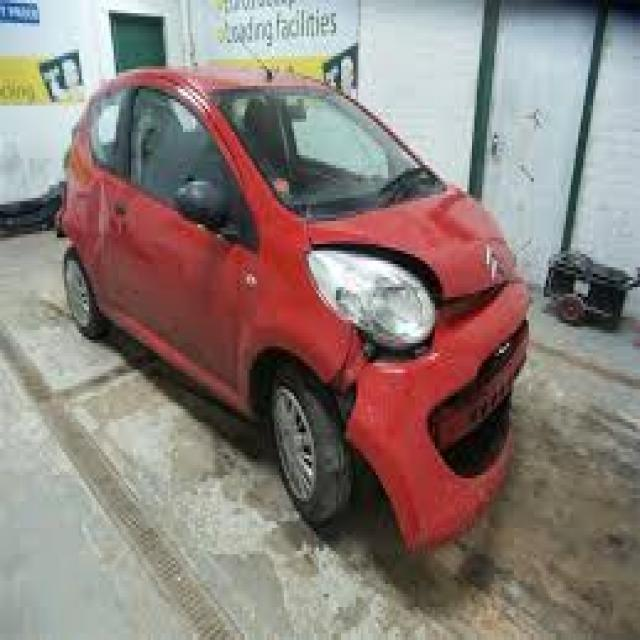moderate: (308, 238, 555, 520)
